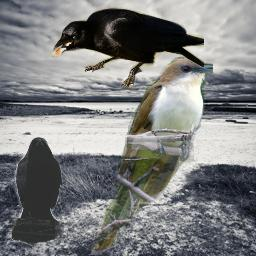Crow: (51, 7, 204, 88), (12, 137, 64, 244)
Cuckoo: (89, 54, 213, 255)
